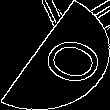O_NW: (14, 23, 96, 87)
